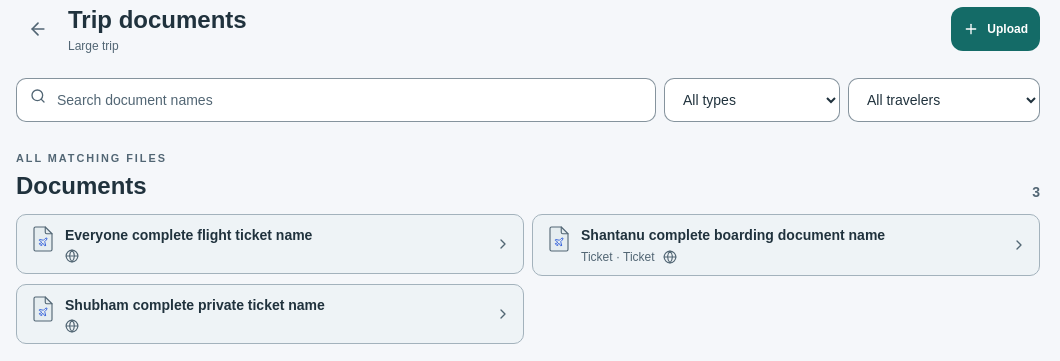
Test: large trip collection pages › shows complete document names and filters shared files with a selected traveler
The image size is (1060, 361).
Expected: the text "Shubham complete private ticket name" is shown, [65, 297, 325, 313]
Select "Shantanu" in the dropdown named "Filter documents by traveler". click: point(944, 100)
box: [848, 78, 1040, 122]
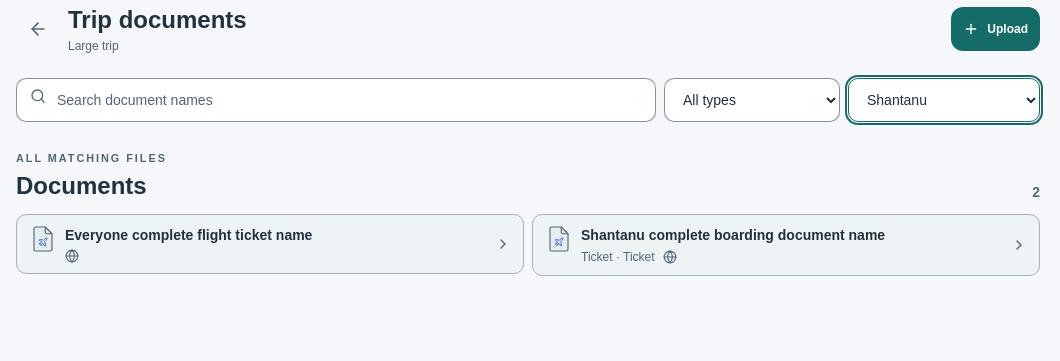
Expected: the text "Everyone complete flight ticket name" is shown, [65, 227, 312, 243]
Result: the link "Shubham complete private ticket name" is gone
